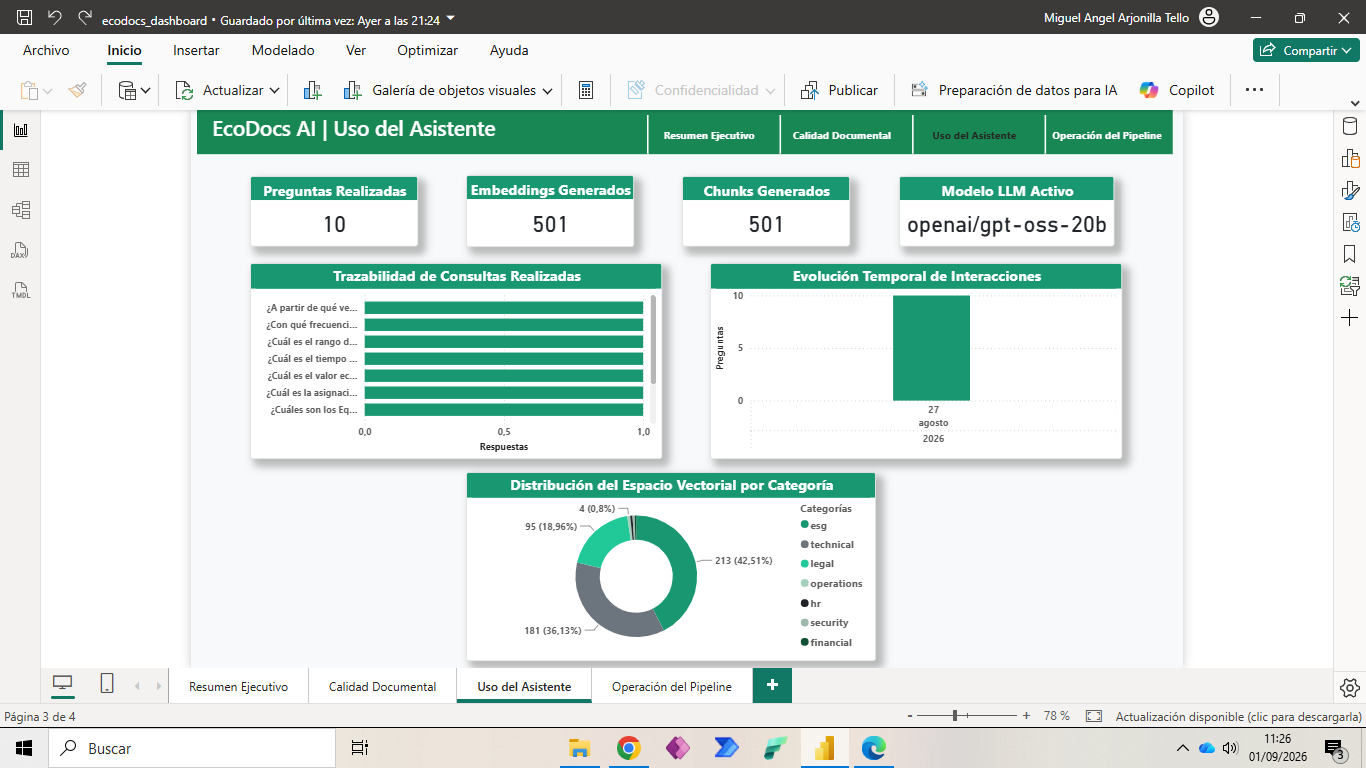

Layout of this report page (visuals, bound fields, positions):
{"tool":"powerbi","page":{"name":"Uso del Asistente","canvas":[1280,720],"ordinal":2},"visuals":[{"type":"textbox","box":[7.7,0,1259.4,56.8],"z":0},{"type":"pageNavigator","box":[588.4,6.5,674.8,50.3],"z":1000},{"type":"card","title":"Preguntas Realizadas","fields":{"Values":["_Medidas.Total_Preguntas"]},"box":[75.6,85.6,216.9,91.3],"z":2000},{"type":"card","title":"Embeddings Generados","fields":{"Values":["_Medidas.Embeddings_Generados"]},"box":[354.8,84.2,216.9,92.8],"z":3000},{"type":"card","title":"Modelo LLM Activo","fields":{"Values":["Min(gold_answers.llm_model)"]},"box":[913.3,85.6,278.3,91.3],"z":4000},{"type":"clusteredBarChart","title":"Trazabilidad de Consultas Realizadas","fields":{"Y":["CountNonNull(gold_answers.answer_text)"],"Category":["gold_questions.question_text"]},"box":[75.6,196.9,532.3,252.6],"z":5000},{"type":"clusteredColumnChart","title":"Evolución Temporal de Interacciones","fields":{"Y":["_Medidas.Total_Preguntas"],"Category":["gold_questions.created_at.Variación.Jerarquía de fechas.Año","gold_questions.created_at.Variación.Jerarquía de fechas.Mes","gold_questions.created_at.Variación.Jerarquía de fechas.Día"]},"box":[669.3,196.9,532.3,252.6],"z":6000},{"type":"donutChart","title":"Distribución del Espacio Vectorial por Categoría","fields":{"Category":["silver_documents.document_category"],"Y":["_Medidas.Total_Chunks"]},"box":[355.3,466.6,529.4,244],"z":7000},{"type":"card","title":"Chunks Generados","fields":{"Values":["_Medidas.Total_Chunks"]},"box":[634.1,85.6,216.9,91.3],"z":8000}]}

Visuals, with their boxes on the page's 1280x720 design canvas (x1, y1, x2, y2). These are canvas units, not pixel positions in the 1366x768 screenshot, which may show the page scaled, cropped or inside an application window:
textbox: 8/0/1267/57
pageNavigator: 588/6/1263/57
"Preguntas Realizadas" card: 76/86/292/177
"Embeddings Generados" card: 355/84/572/177
"Modelo LLM Activo" card: 913/86/1192/177
"Trazabilidad de Consultas Realizadas" clusteredBarChart: 76/197/608/450
"Evolución Temporal de Interacciones" clusteredColumnChart: 669/197/1202/450
"Distribución del Espacio Vectorial por Categoría" donutChart: 355/467/885/711
"Chunks Generados" card: 634/86/851/177
